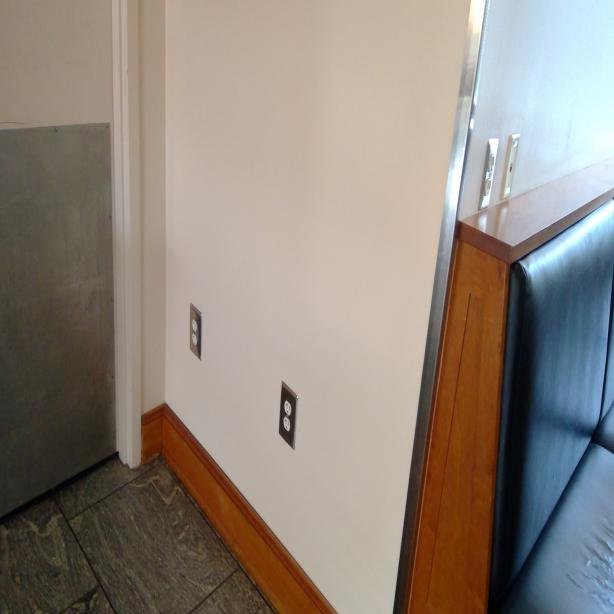typeb: (282, 416, 292, 435), (488, 154, 496, 173), (283, 399, 292, 415), (485, 179, 492, 197), (191, 320, 198, 334), (191, 333, 198, 345)
